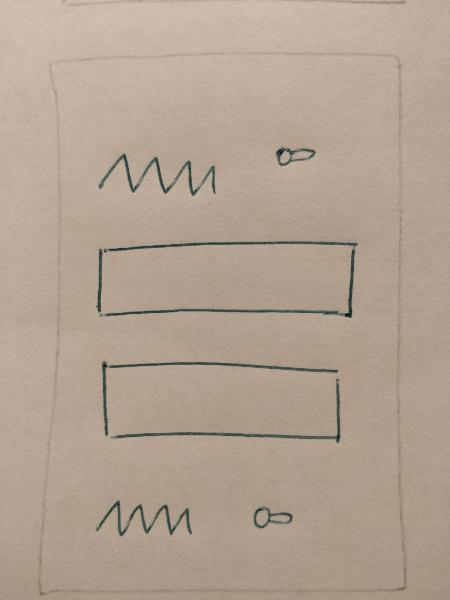switch: (237, 495, 307, 539), (263, 137, 330, 174)
text: (86, 144, 232, 210), (89, 491, 207, 545)
text_input: (85, 350, 360, 460), (84, 234, 371, 329)
